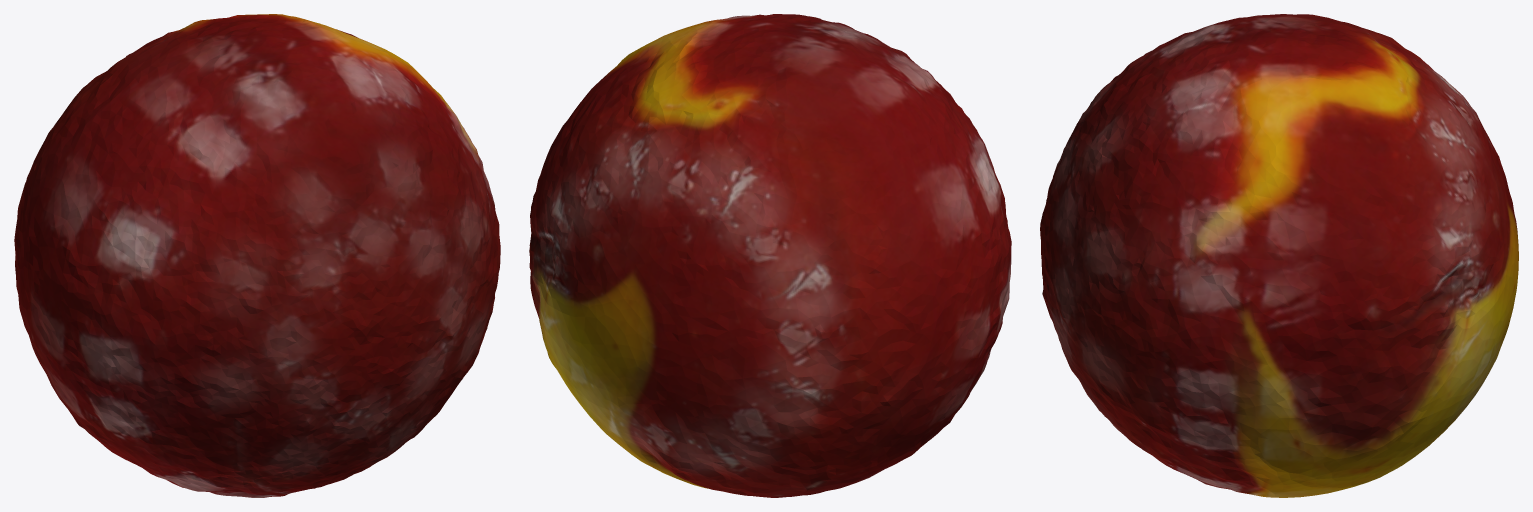
The picture shows the model from 3 angles, left to right: view 1: azimuth 30°, elevation 25°; view 2: azimuth 150°, elevation 25°; view 3: azimuth 270°, elevation 25°; orthographic projection.
Parts seen in each view (by area): view 1: node; view 2: node; view 3: node.
Part boxes in pixels (box(x1,y1,x2,y2)): node: box(14, 14, 500, 497); node: box(529, 14, 1011, 497); node: box(1040, 14, 1518, 497).
Size of the model in its own units: 0.035 by 0.035 by 0.0345.
Materials: 1 (1 with a texture image).
